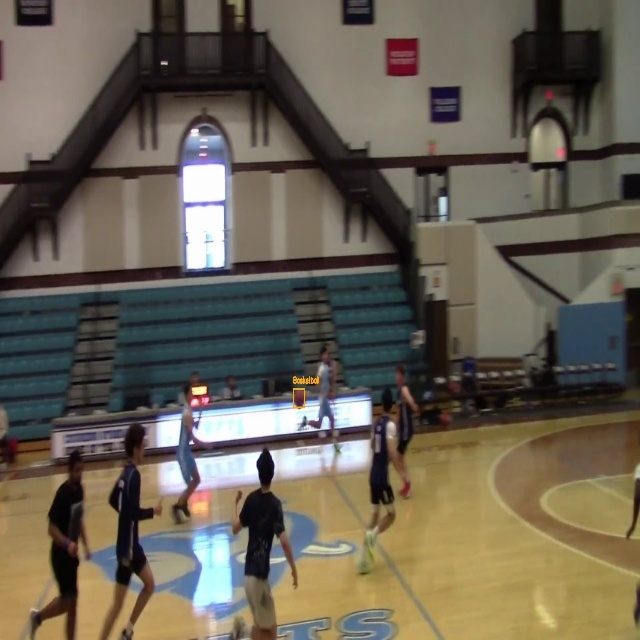Basketball: (293, 389, 305, 408)
